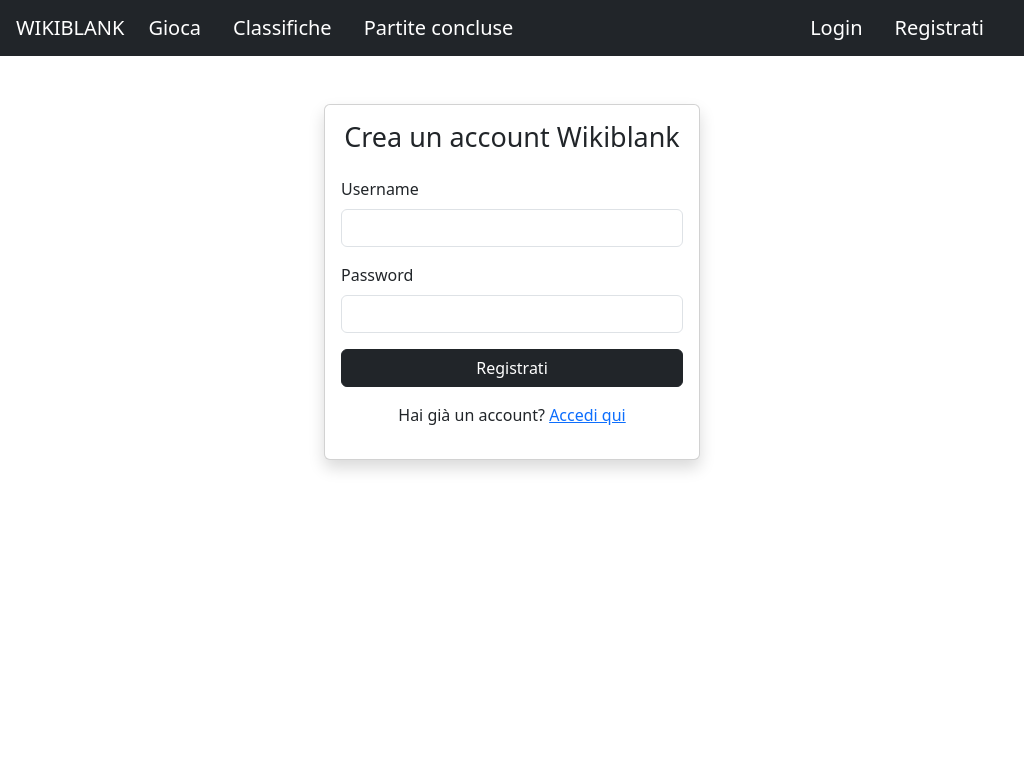
it: Wikiblank E2E Tests › 5. Blocca la registrazione se i campi sono vuoti
Click the button "Registrati".
click(512, 368)  # box top-left (341, 349), bottom-right (683, 387)
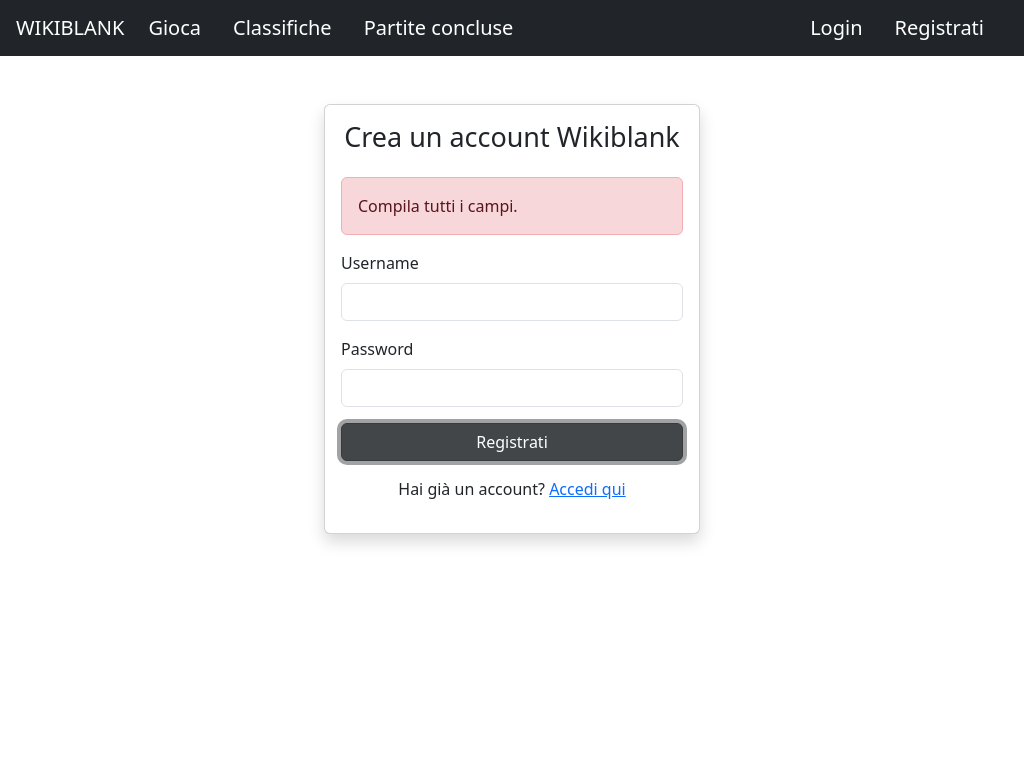
Expected: the message with class "alert-danger" shows "Compila tutti i campi", top-left (358, 195), bottom-right (518, 217)
